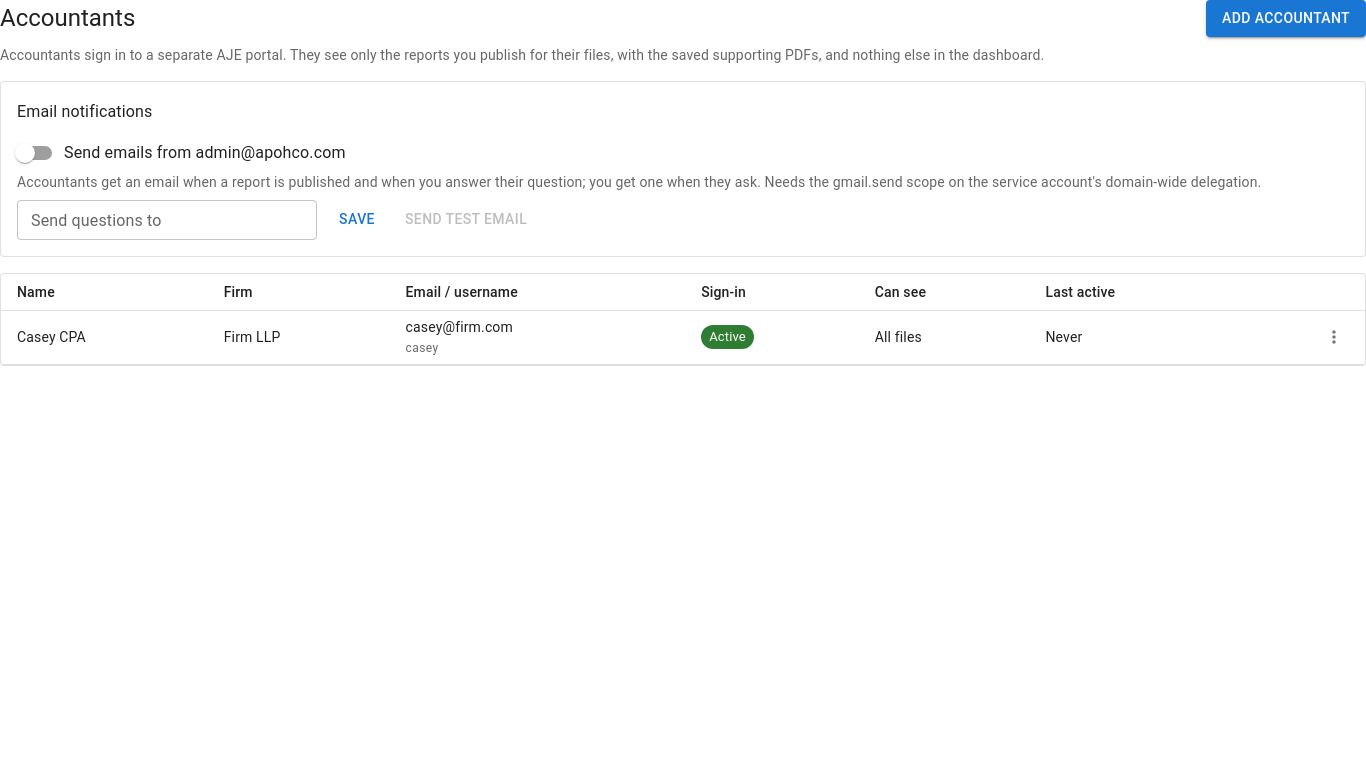
Accountants page › adding an accountant limited to one file sends the invite
The image size is (1366, 768).
Step 1. Click the button "Add accountant" → (1286, 18), box [1206, 0, 1365, 36]
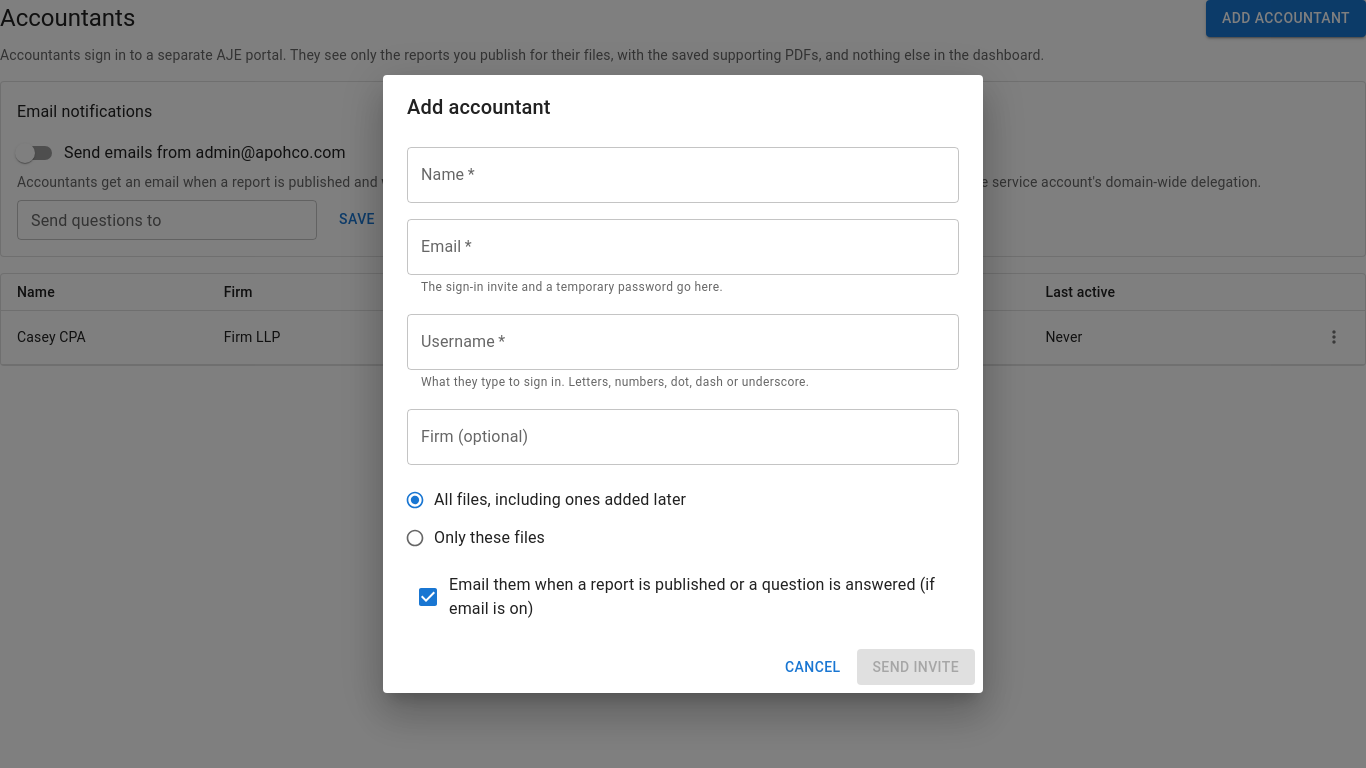
Step 2. Type "Dana Lee" into the field labelled "Name" → (683, 175), box [407, 147, 959, 203]
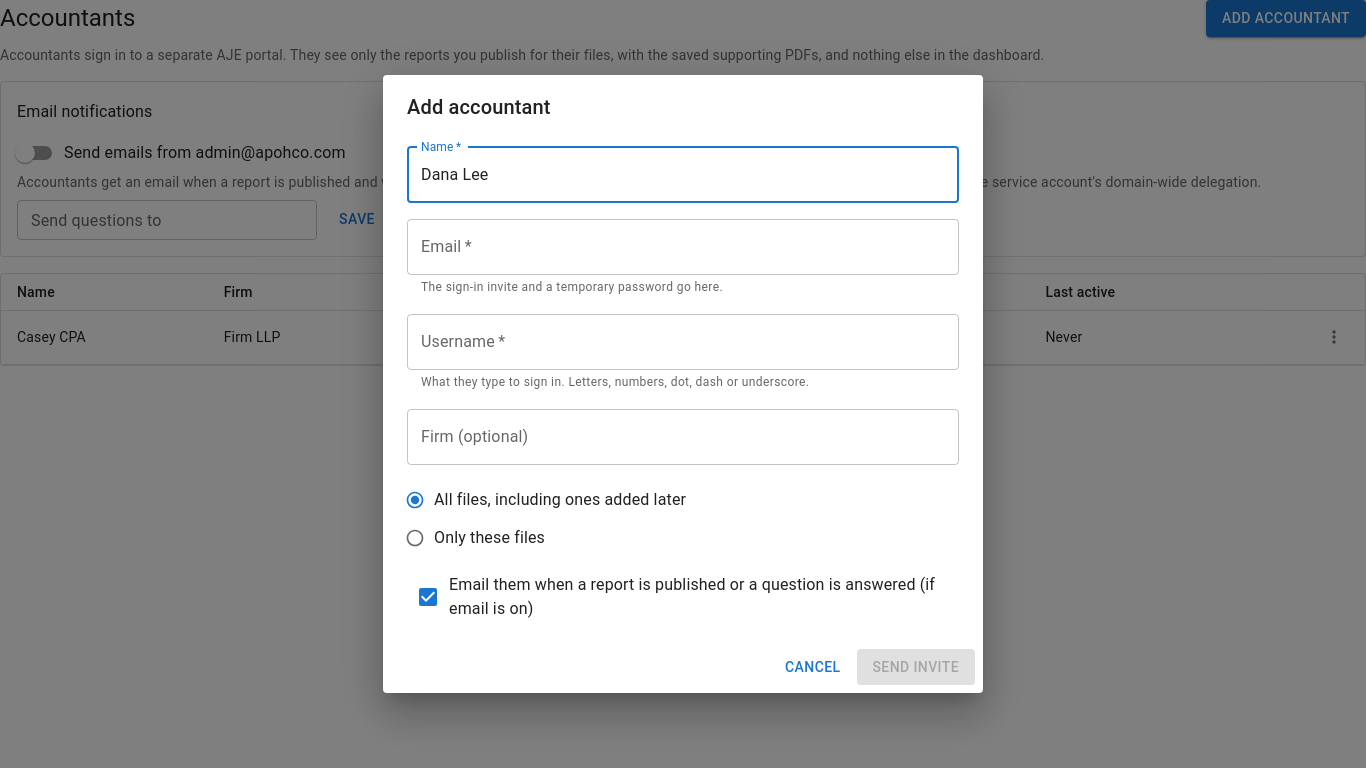
Step 3. Type "dana.lee@firm.com" into the field labelled "Email" → (683, 247), box [407, 219, 959, 275]
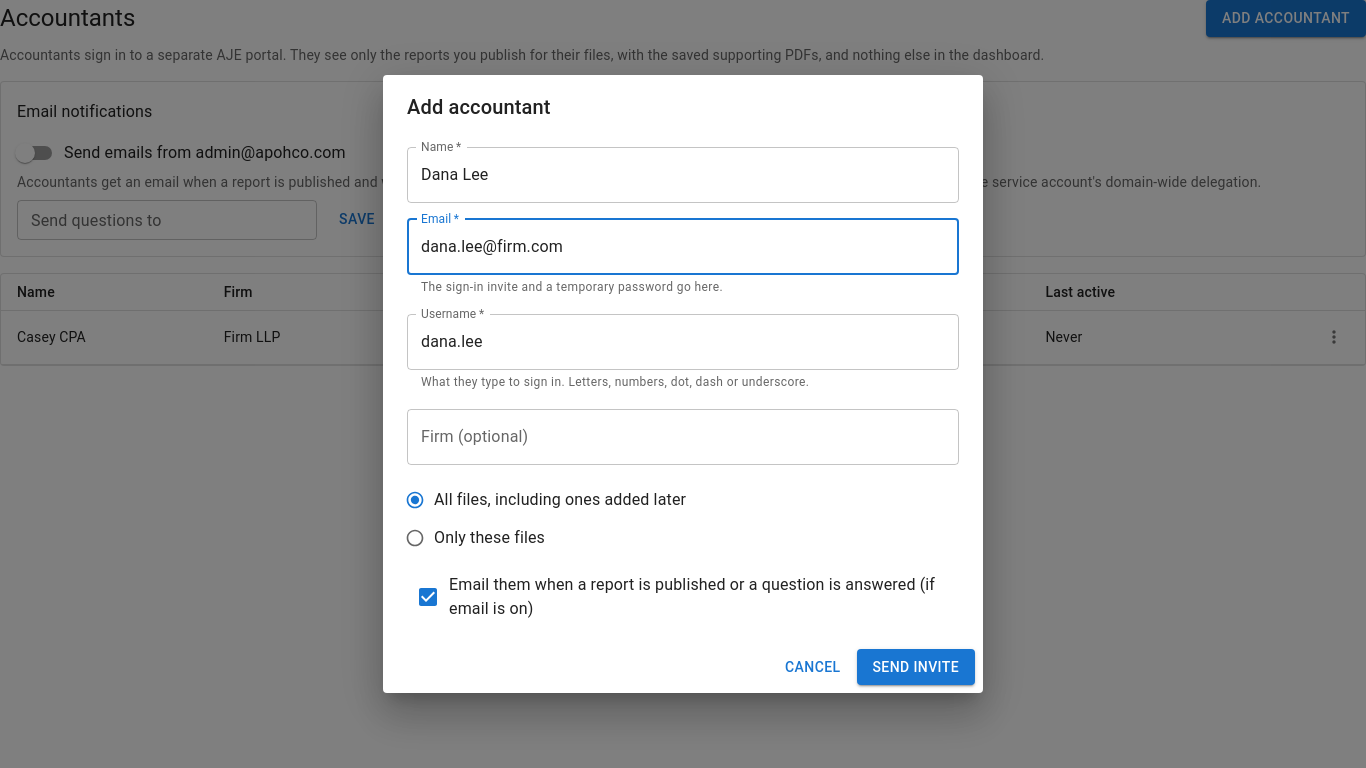
Check: the field labelled "Username" holds "dana.lee", box [407, 314, 959, 370]
Step 4. Click the radio button labelled "Only these files" → (475, 538), box [405, 528, 545, 548]
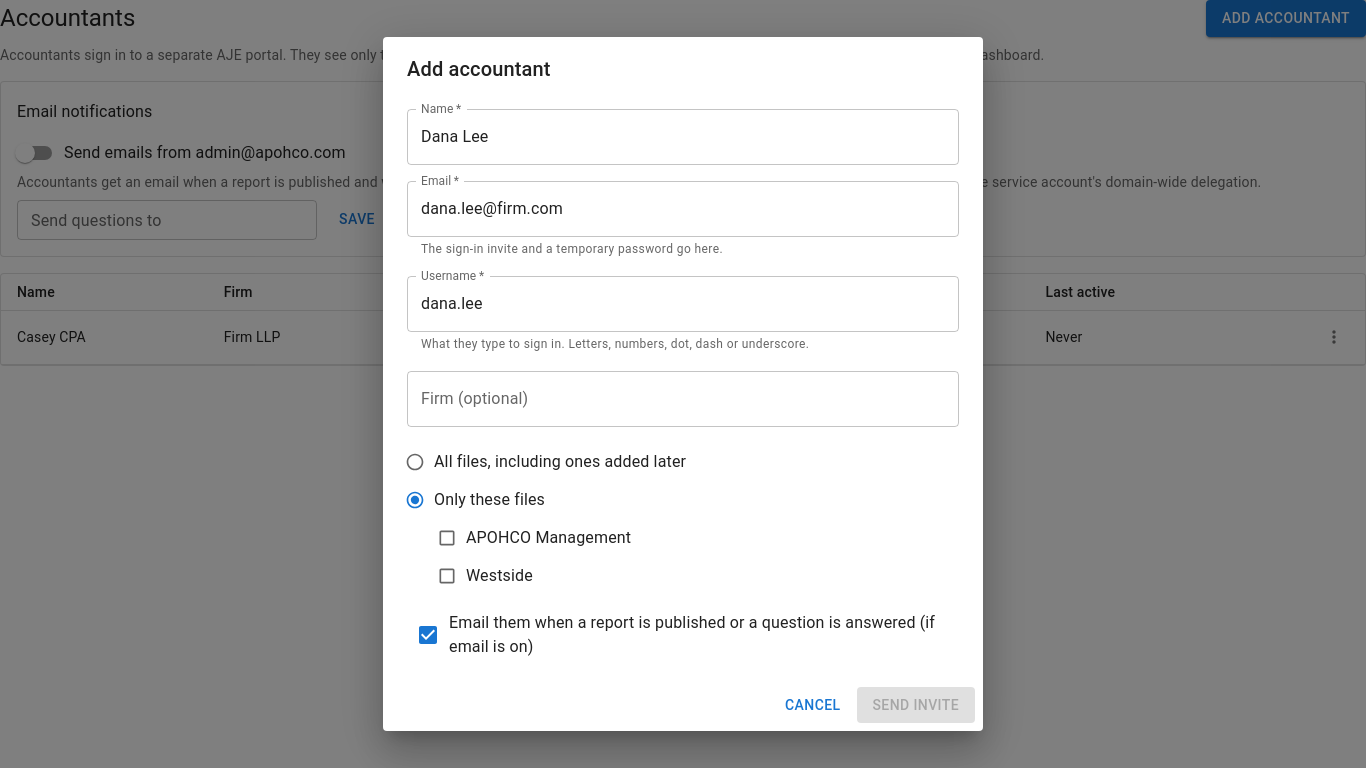
Check: the button "Send invite" is disabled, box [856, 687, 975, 723]
Step 5. Click the checkbox labelled "Westside" → (485, 576), box [437, 566, 533, 586]
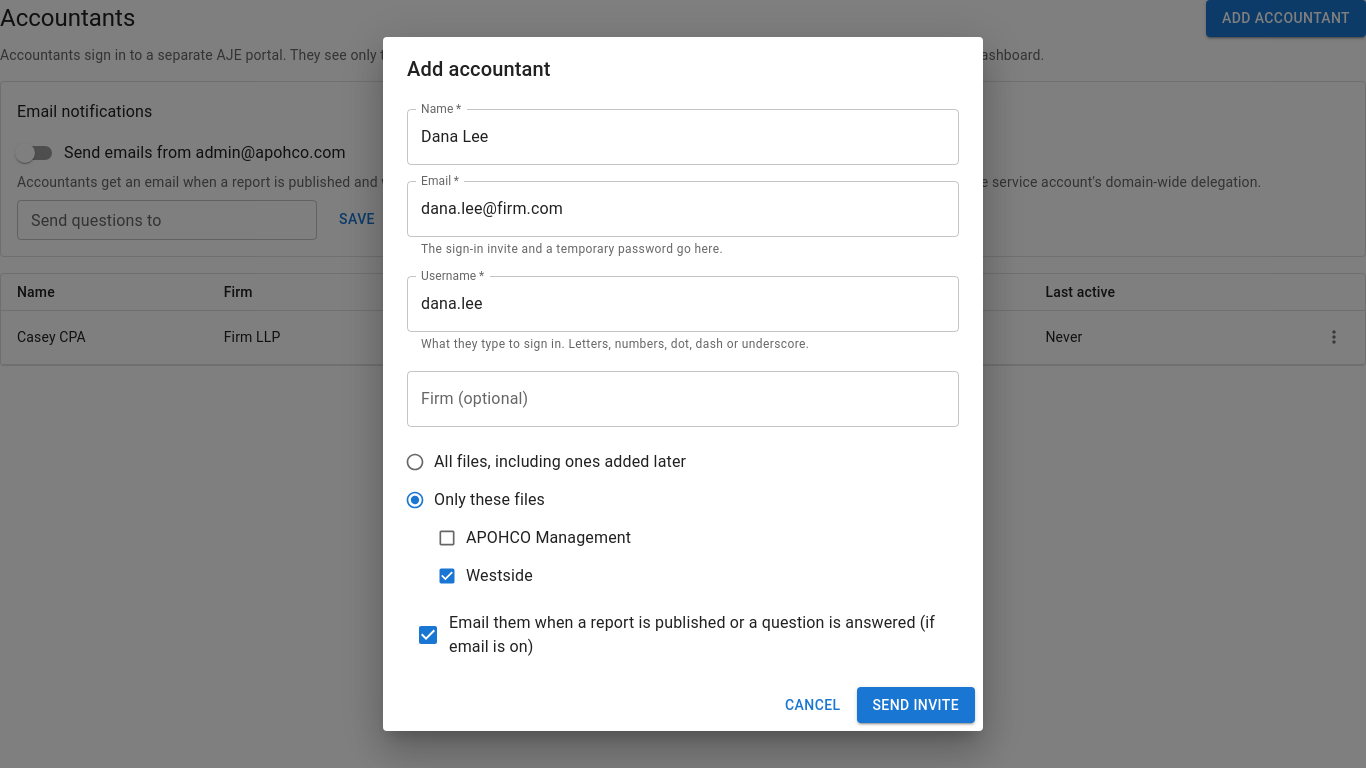
Step 6. Click the button "Send invite" → (916, 705), box [856, 687, 975, 723]
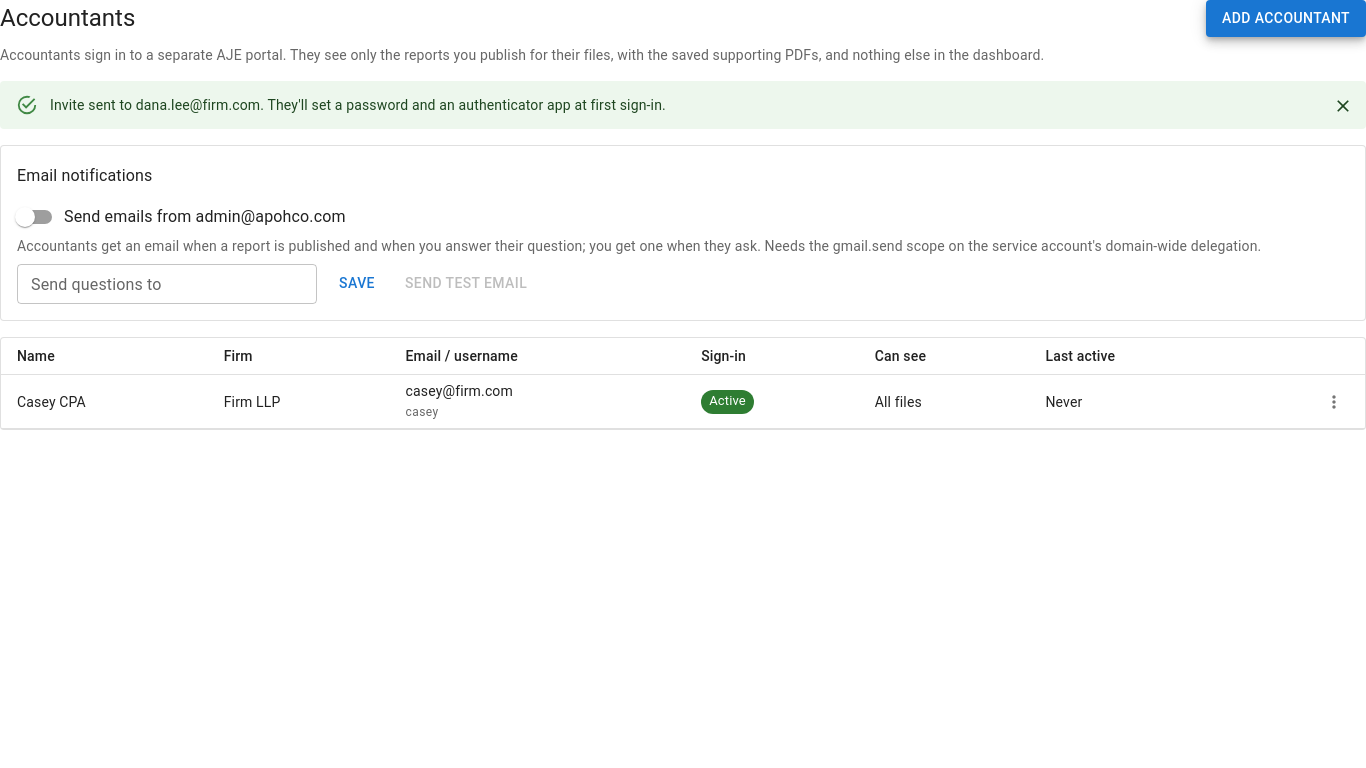
Check: the text "Invite sent to dana.lee@firm.com" is shown, box [50, 96, 666, 112]
